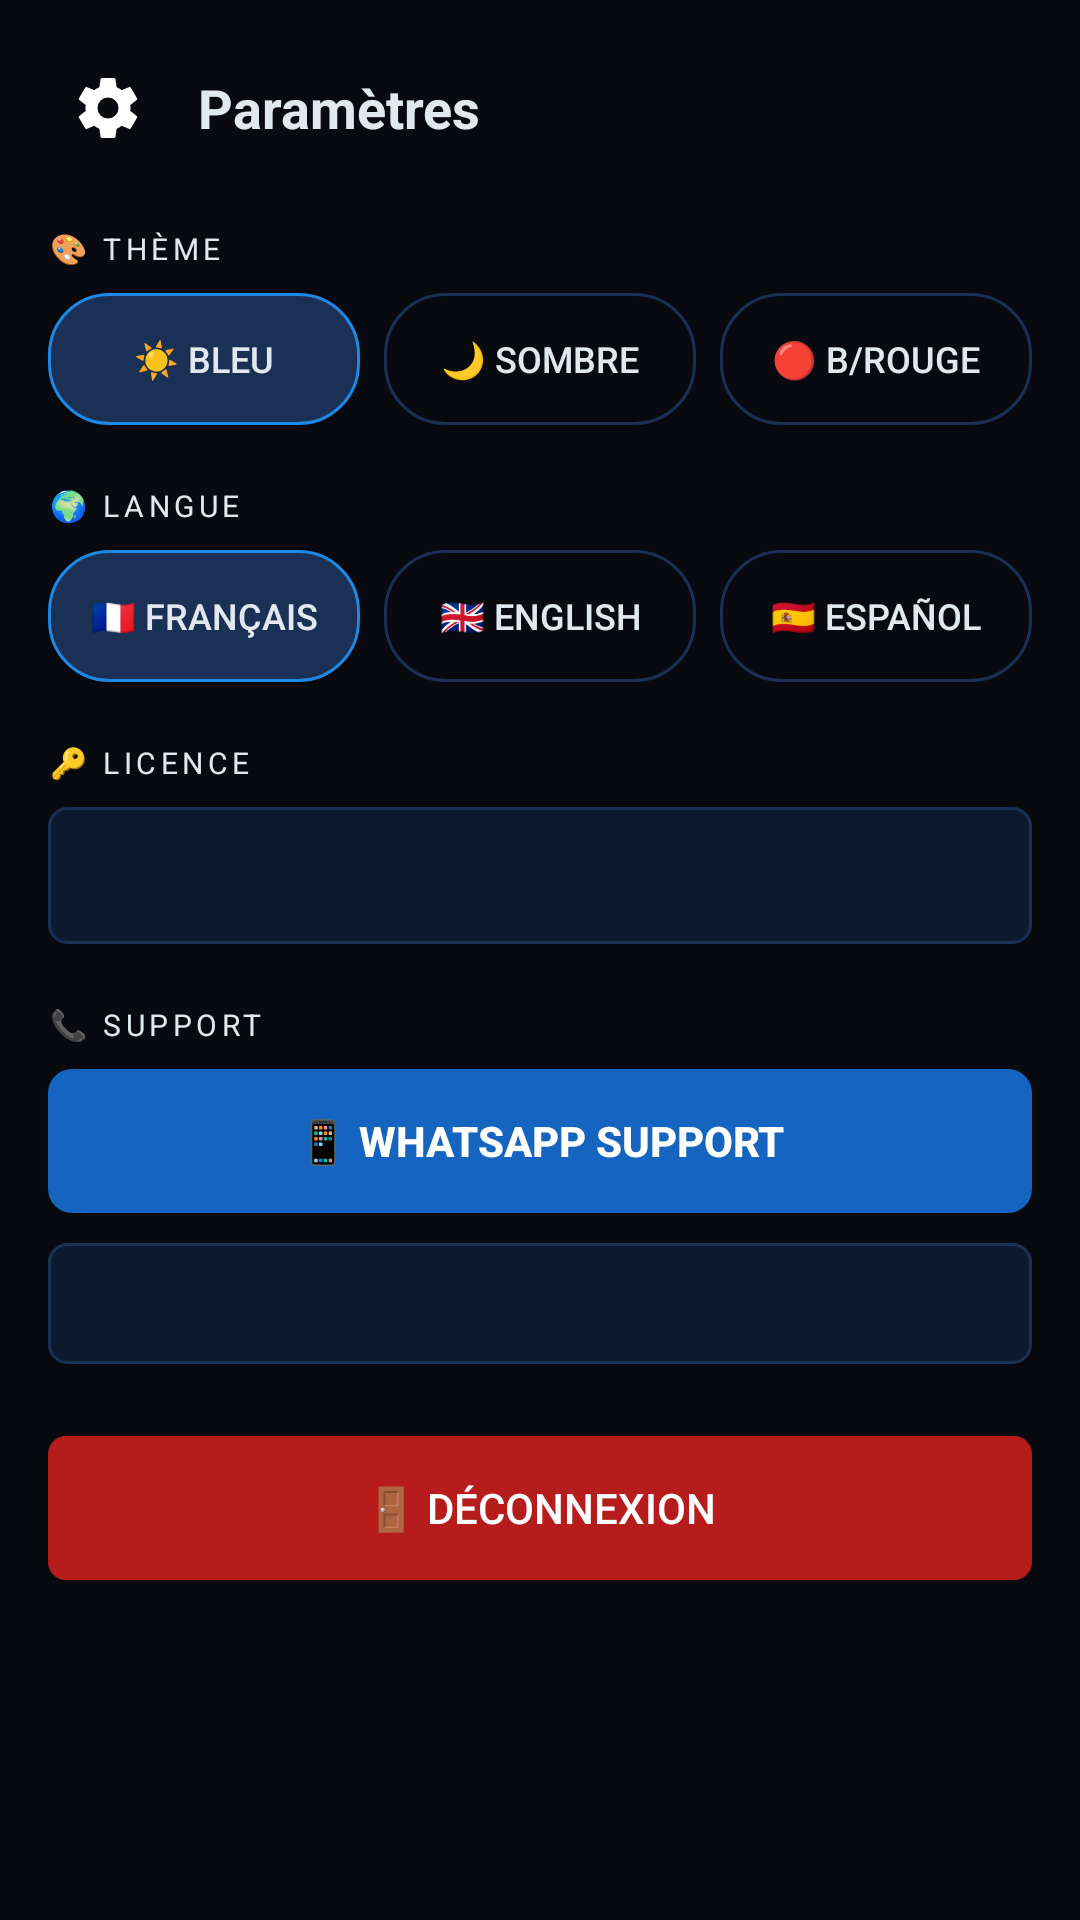

Icon bounding boxes for this 1080 × 1920 phone screenshot, format (x1, y1, x2, y2):
settings: (78, 78, 137, 138)
